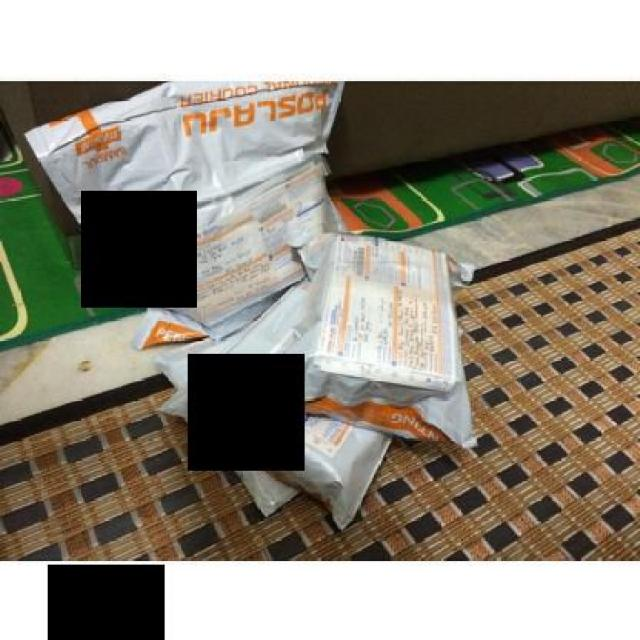plastic bag: (18, 86, 380, 349)
